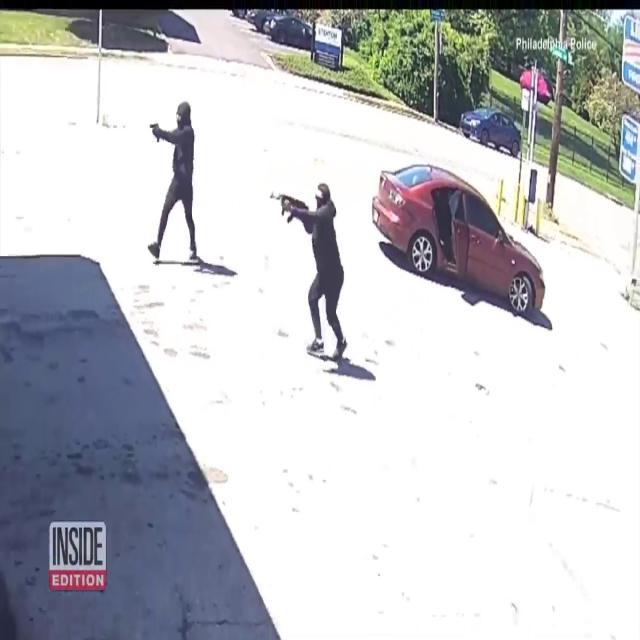penembakan: (272, 180, 348, 367), (146, 94, 202, 278)
